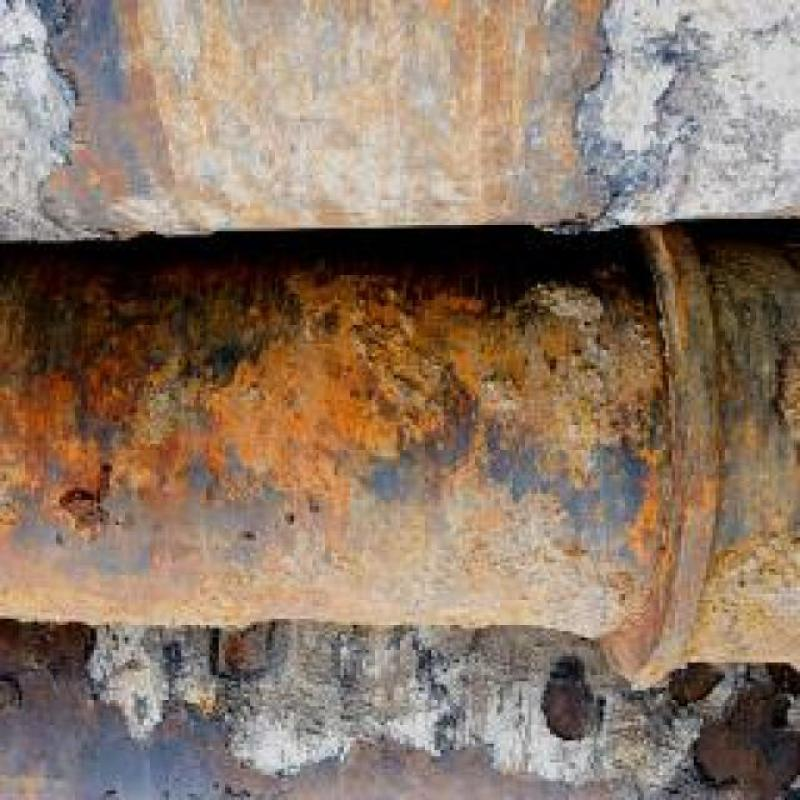corrosion: (9, 242, 794, 663)
